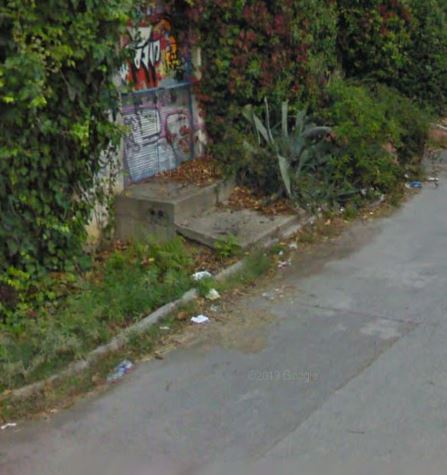trash: (190, 266, 222, 303), (399, 169, 440, 193), (99, 357, 138, 381), (188, 310, 208, 334)
